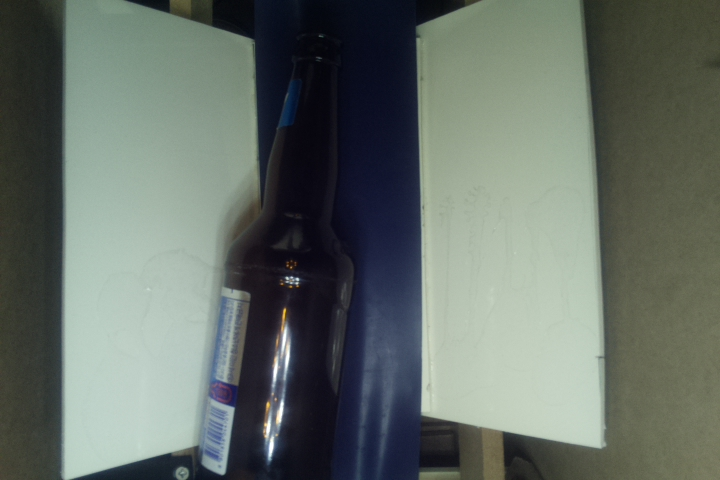makju: (192, 18, 359, 480)
